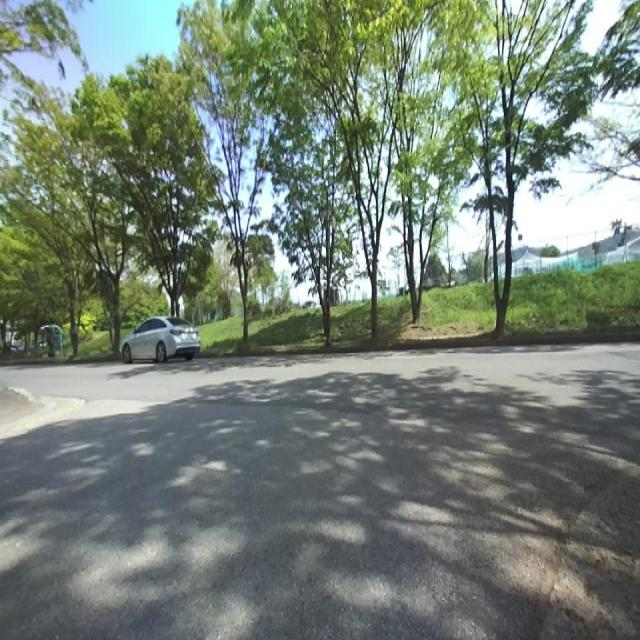sidewalk: (0, 389, 42, 424)
